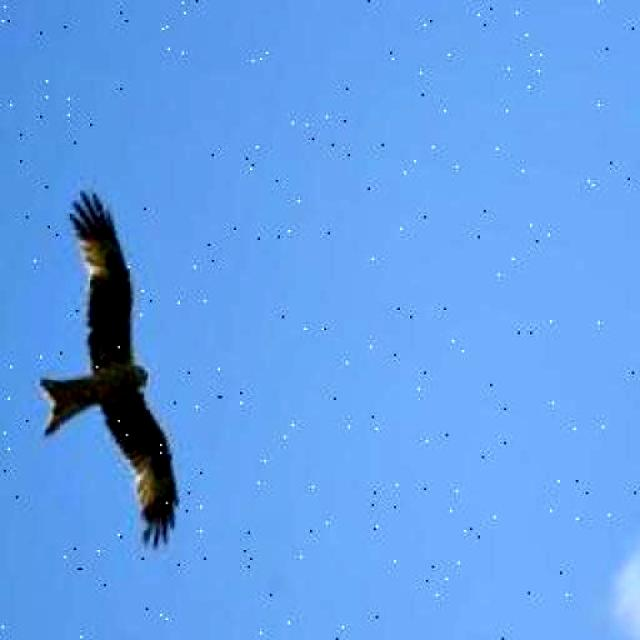airplane: (2, 182, 242, 556)
